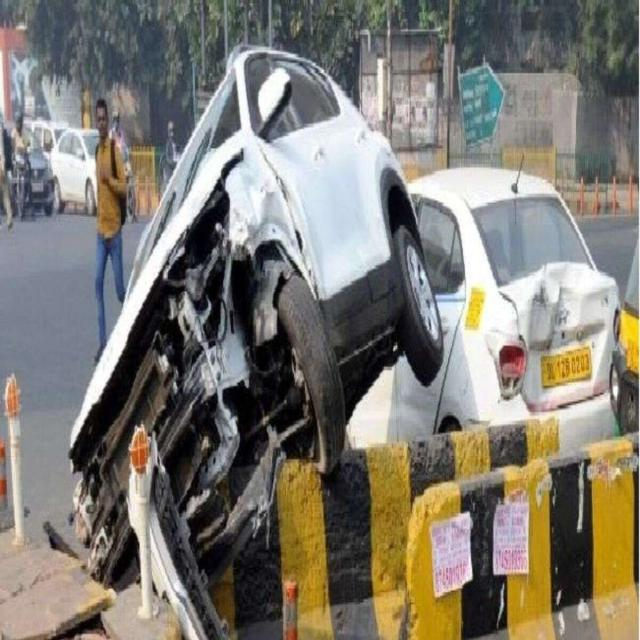accident: (70, 47, 440, 638), (348, 169, 619, 451)
